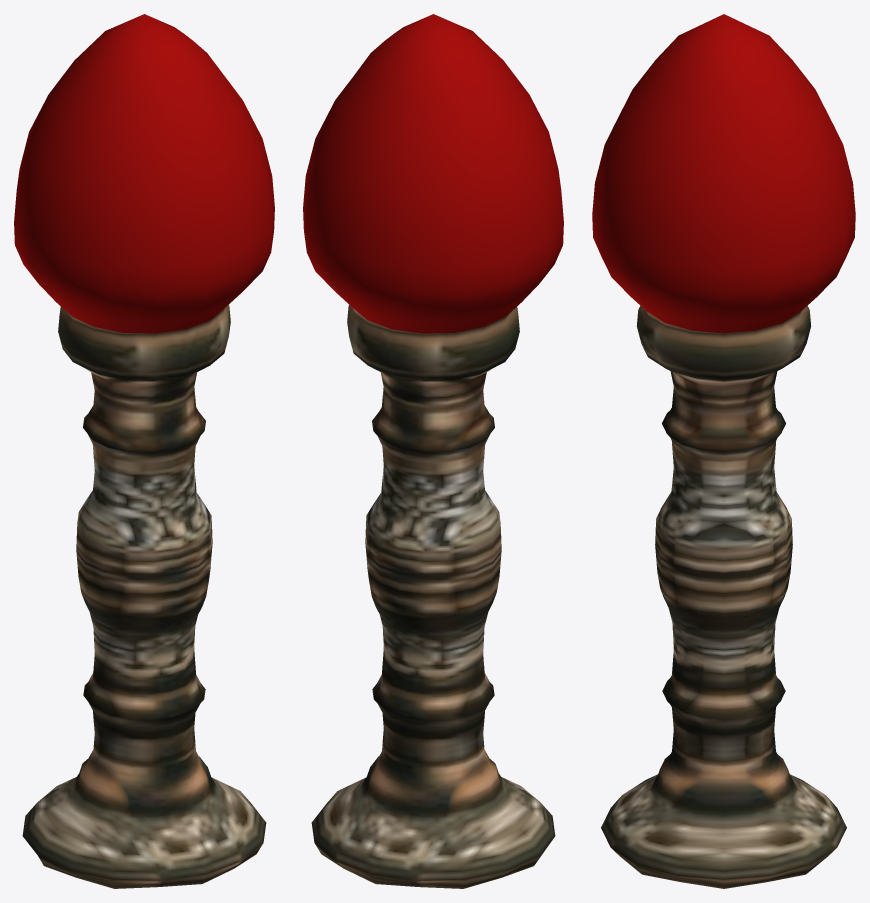
The model's file is God_Table_Lamp.fbx.
The picture shows the model from 3 angles, left to right: view 1: azimuth 30°, elevation 25°; view 2: azimuth 150°, elevation 25°; view 3: azimuth 270°, elevation 25°; orthographic projection.
Visible parts, largest first — view 1: God_Table_Lamp; view 2: God_Table_Lamp; view 3: God_Table_Lamp.
Boxes of the visible parts, x1,y1,x2,y2 form: God_Table_Lamp: (14,14,274,888); God_Table_Lamp: (303,14,563,888); God_Table_Lamp: (592,14,855,888).
Bounding box in the file's own units: 0.0881 × 0.3062 × 0.0881.
2 materials, 1 textured.
